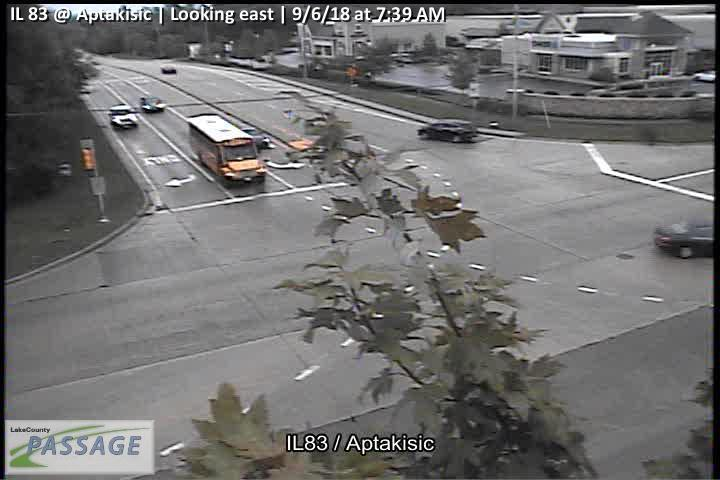Bus: (187, 114, 270, 190)
SUV: (109, 104, 139, 129)
Sedan: (418, 119, 478, 143), (141, 97, 165, 113)
